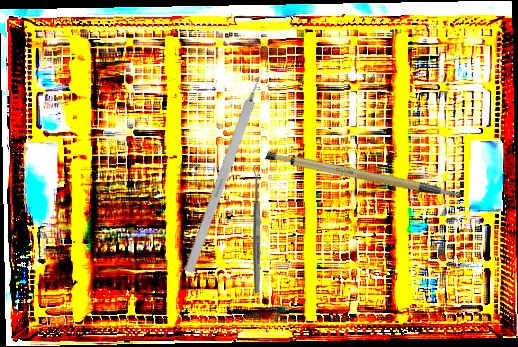Hook Surgical: (183, 59, 271, 274)
Scalpel Handle: (264, 125, 462, 229)
Surgical Spoon: (253, 165, 261, 293)
